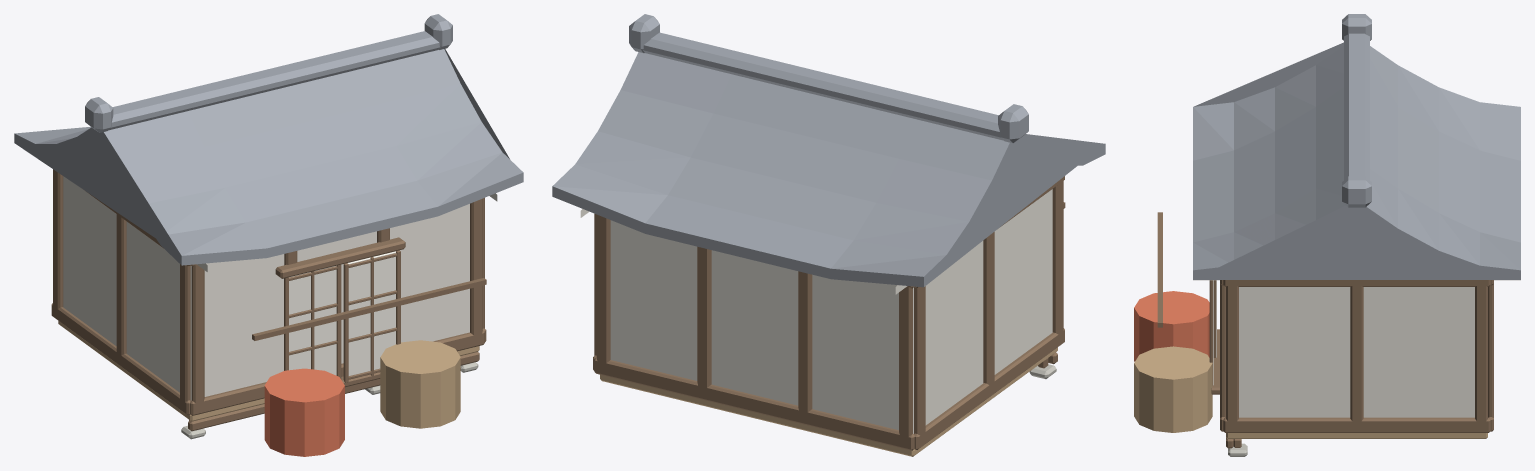
File: dye-workshop.glb
3 renders of one model, left to right at view 1: azimuth 30°, elevation 25°; view 2: azimuth 150°, elevation 25°; view 3: azimuth 270°, elevation 25°, orthographic. The views are drawn at different scales.
Visible parts, largest first — view 1: dye-workshop; view 2: dye-workshop; view 3: dye-workshop.
Part boxes in pixels (bbox=[...]): dye-workshop: bbox=[14, 14, 523, 456]; dye-workshop: bbox=[552, 14, 1105, 456]; dye-workshop: bbox=[1134, 14, 1520, 456].
Size of the model in its own units: 6.2 by 4.91 by 5.9.
